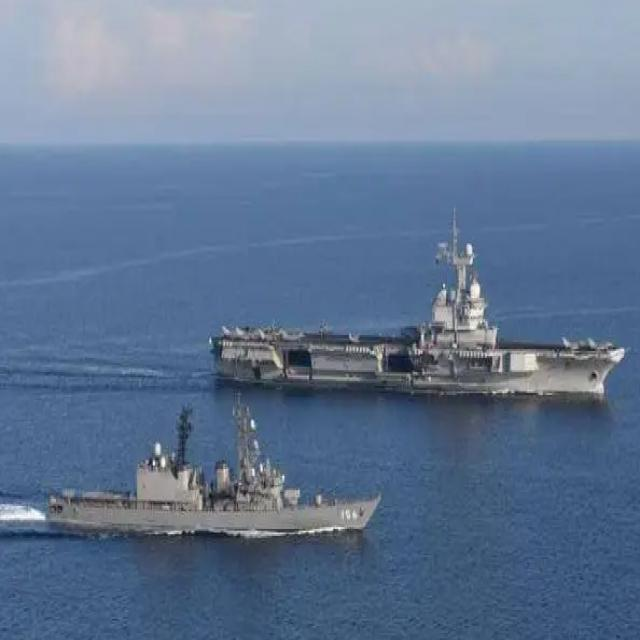navalvessels: (213, 216, 621, 410), (41, 404, 382, 566)
